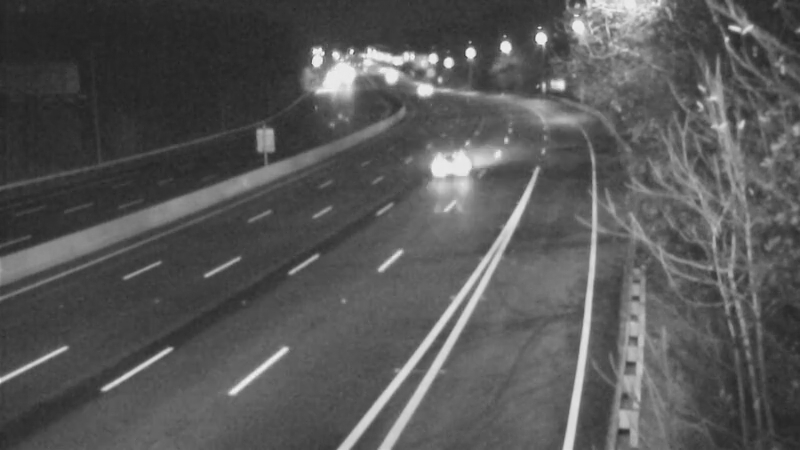vehicle: (412, 126, 492, 206), (398, 65, 448, 115)
